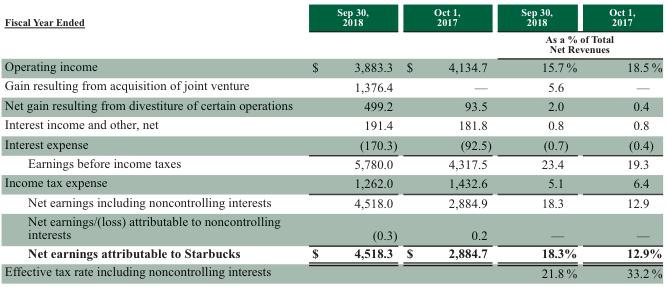table: (3, 4, 661, 280)
table column: (3, 4, 301, 280), (401, 4, 505, 280), (301, 4, 401, 280), (505, 4, 592, 280), (592, 4, 661, 280)
table column header: (3, 4, 661, 56)
table row: (3, 211, 661, 243), (3, 29, 661, 56), (3, 4, 661, 29), (3, 75, 661, 95), (3, 133, 661, 153), (3, 172, 661, 192), (3, 56, 661, 75), (3, 95, 661, 114), (3, 114, 661, 133), (3, 153, 661, 172), (3, 192, 661, 211), (3, 261, 661, 280), (3, 243, 661, 261)
table spanning cell: (3, 4, 301, 56), (401, 4, 505, 56), (301, 4, 401, 56), (505, 29, 661, 56)
